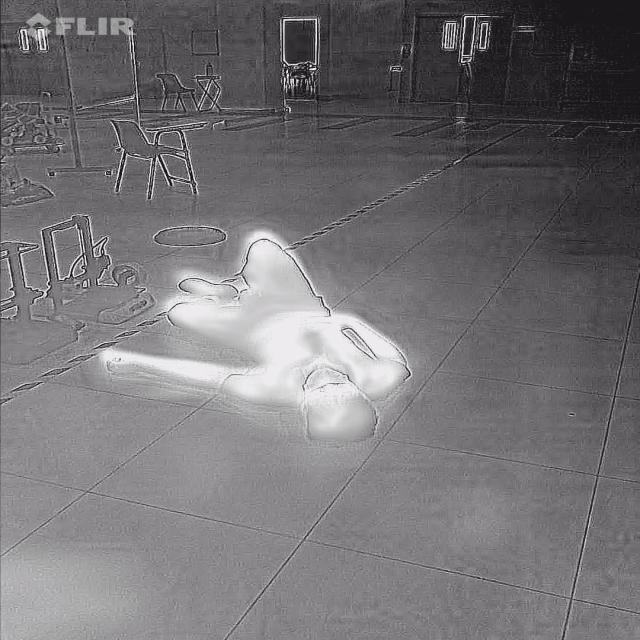Victim: (90, 224, 422, 452)
